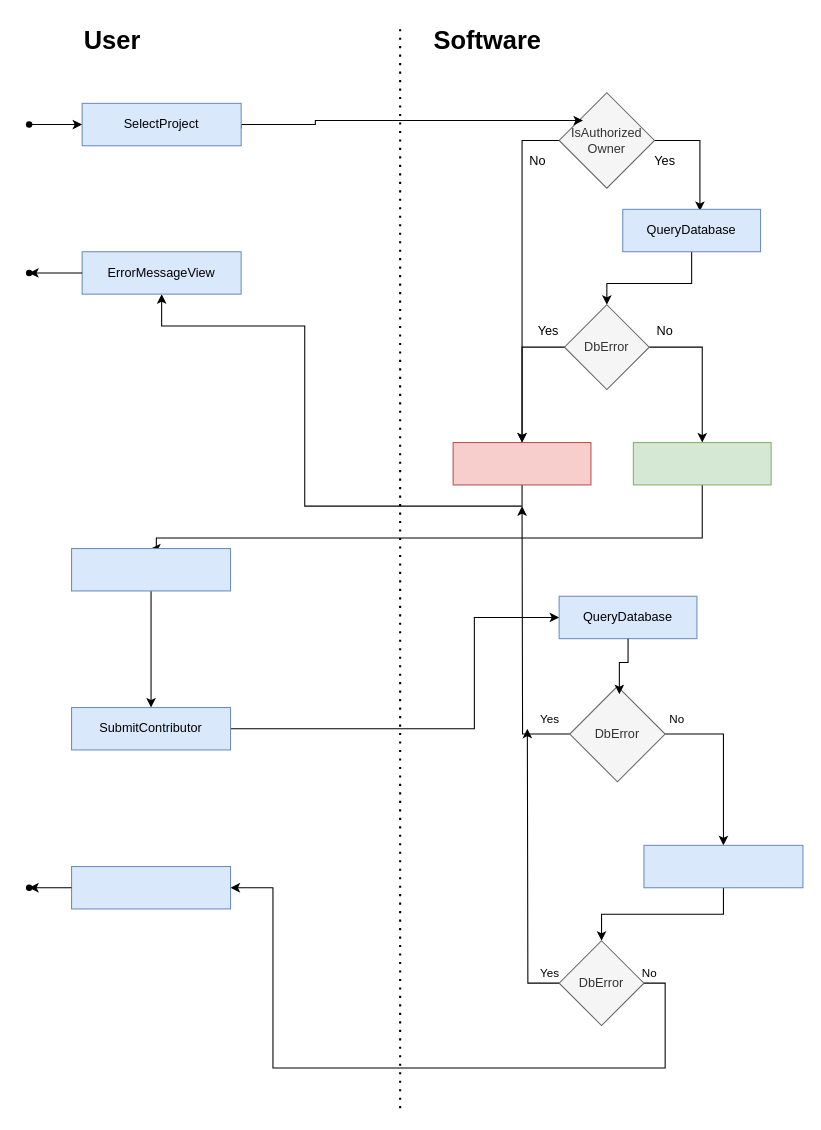
This 821x1130 diagram has some shape labels left out. Each missing label, with the centre of its shape:
"ContributorSelector" goes at point (150, 569).
"ErrorResponse" goes at point (521, 463).
"SuccesResponse" goes at point (701, 463).
"SuccessView" goes at point (150, 887).
"UpdateDatabase" goes at point (723, 866).
